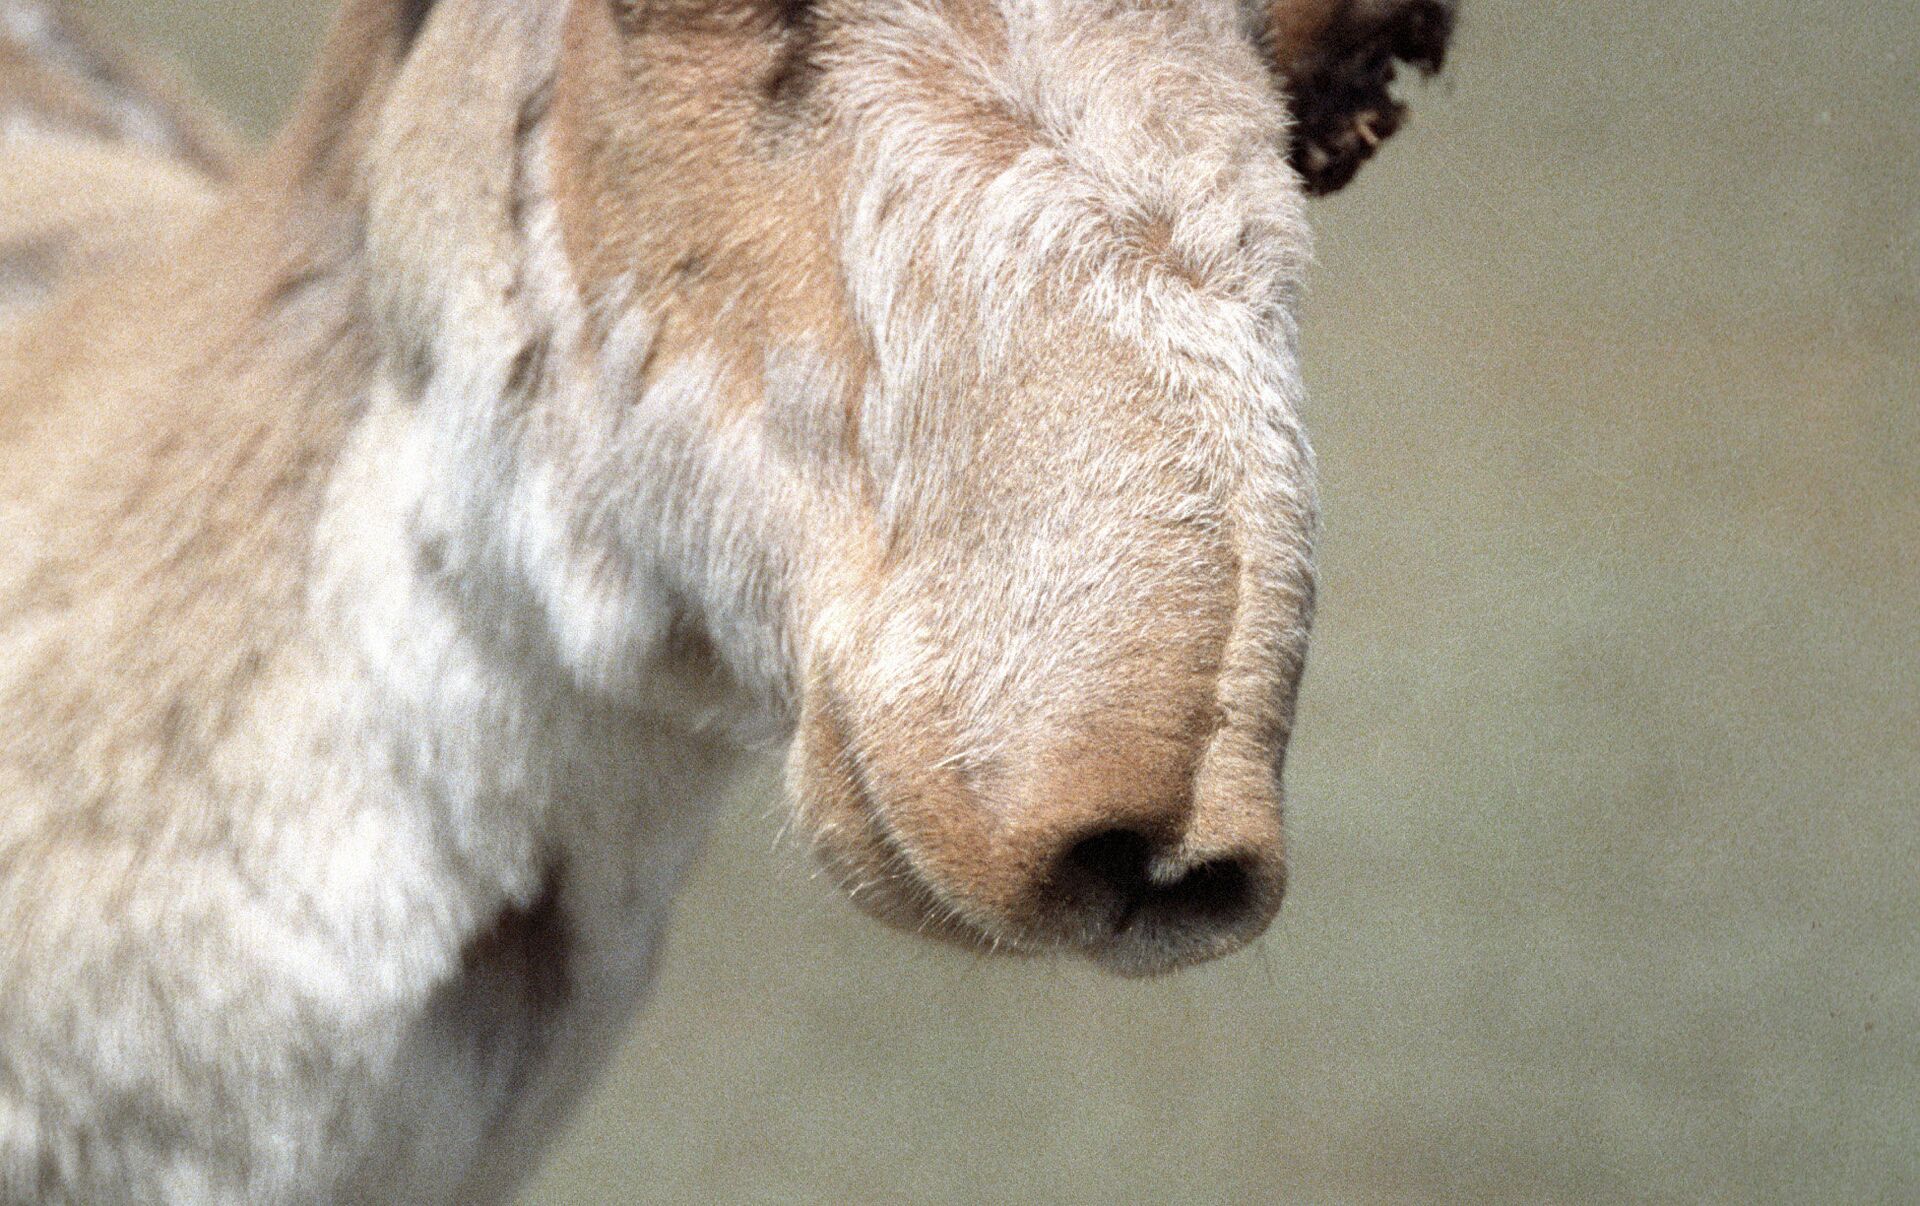saiga: (7, 1, 1449, 1206)
